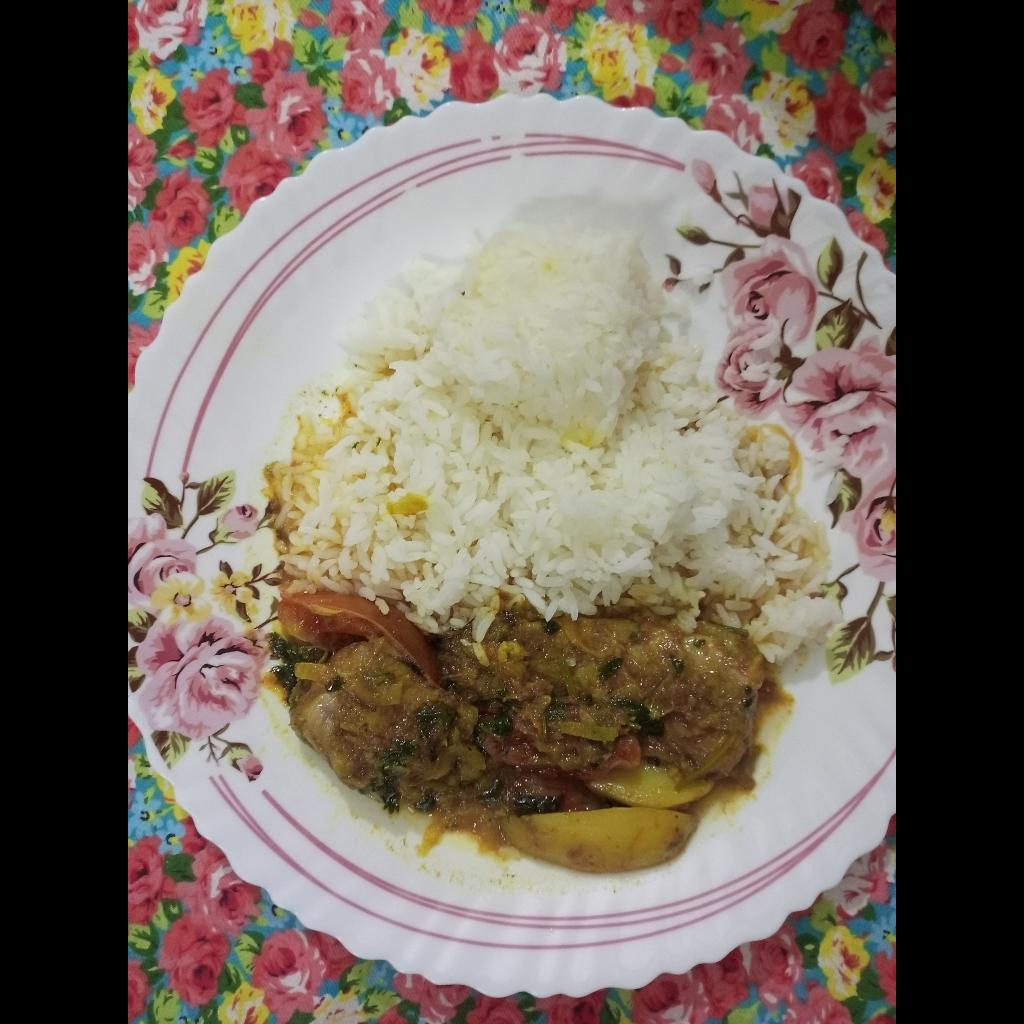fish: (268, 604, 770, 837)
potato: (495, 753, 714, 869)
rice: (265, 211, 844, 662)
tomato: (274, 593, 442, 690)
